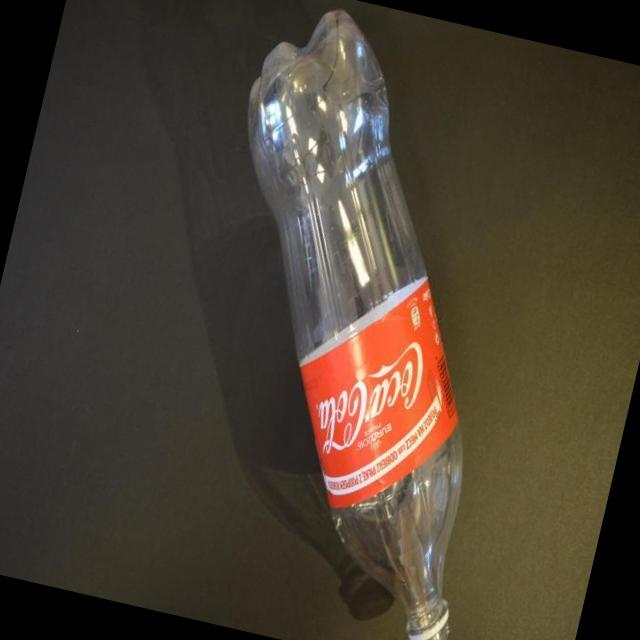plastic_bottle: (134, 0, 580, 640)
